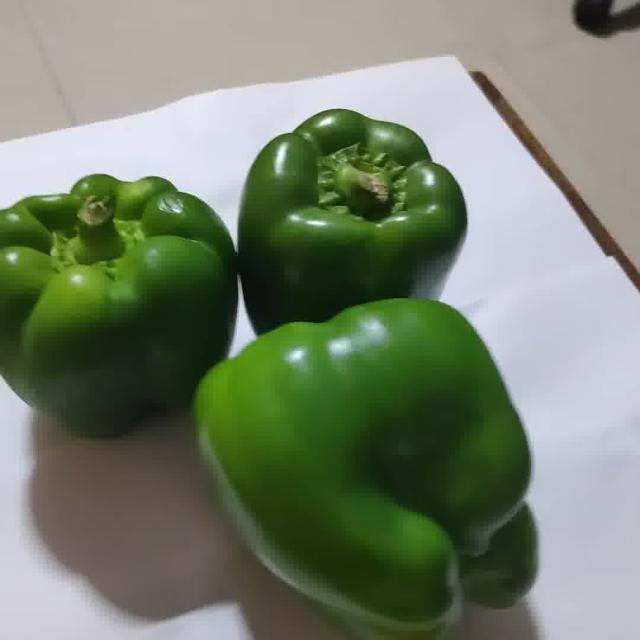Bell Pepper: (195, 300, 537, 639), (0, 175, 238, 437), (238, 110, 466, 334)
